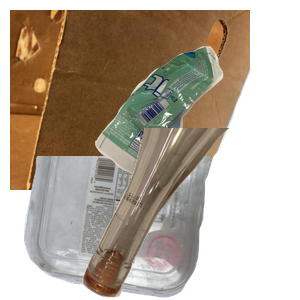cardboard: (10, 10, 250, 190)
glass: (80, 128, 300, 300)
plastic: (21, 156, 226, 300)
trash: (92, 44, 300, 211)
